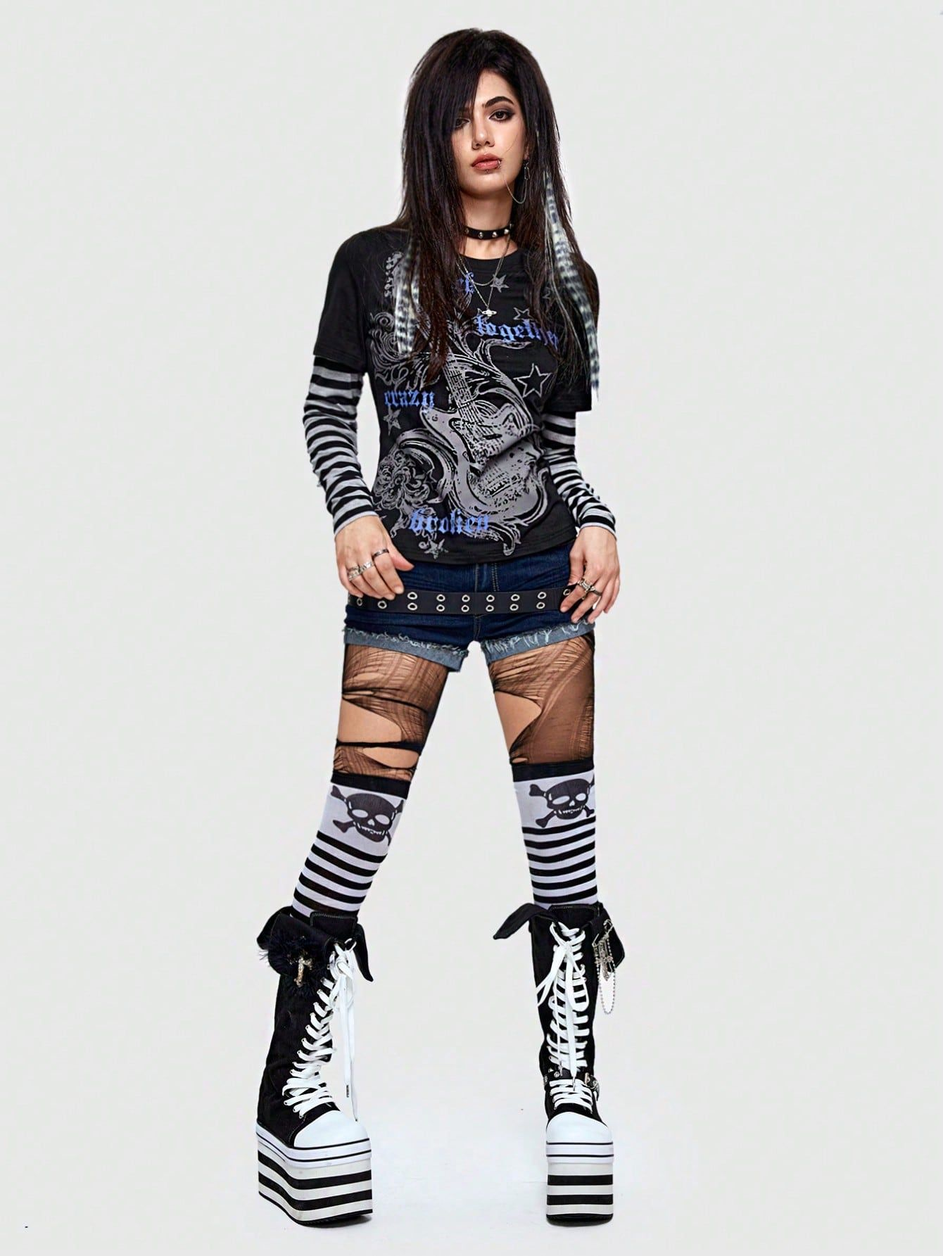Imprimante: (348, 296, 639, 732)
